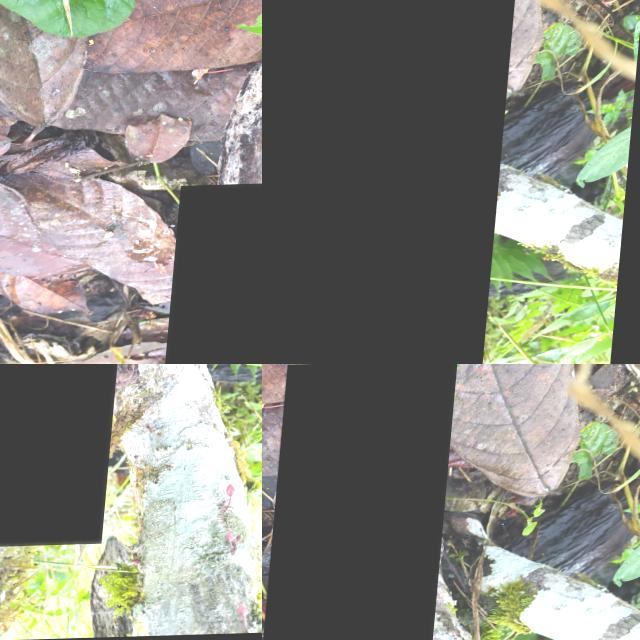Fitoftora: (262, 0, 520, 364), (264, 364, 458, 640)
Monilia: (0, 364, 138, 551), (165, 182, 262, 364)
